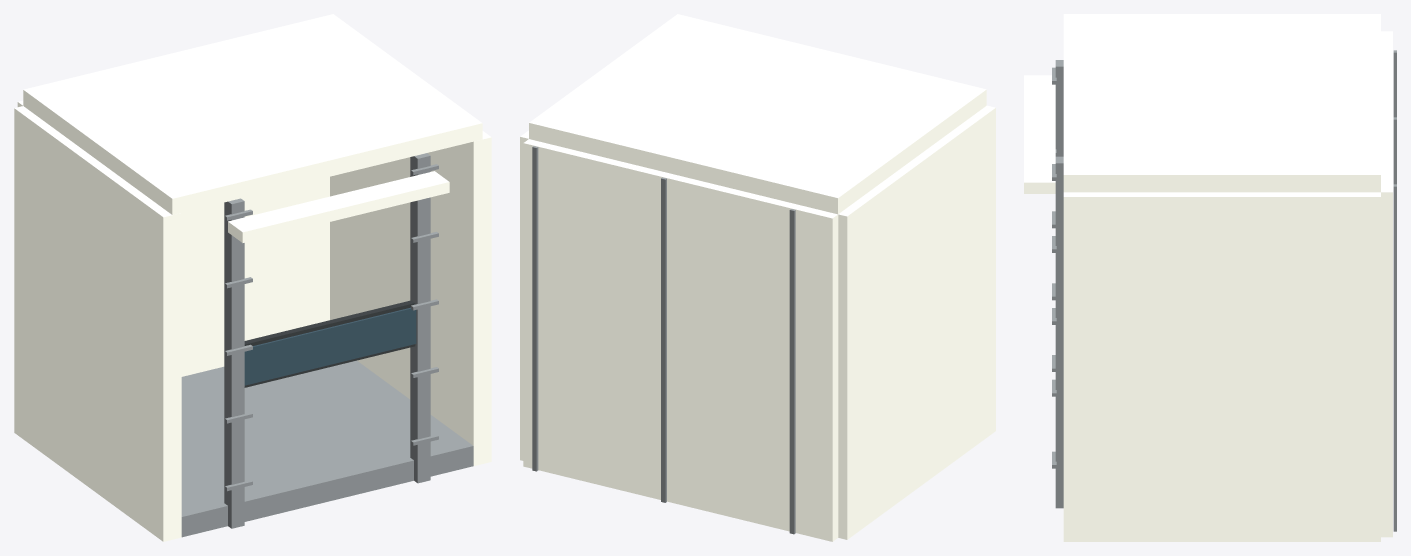
File: endurance-and-gt-paddock-lit-marshal-post-e517a35e__14883.glb
3 views of the same model, side by side, from view 1: azimuth 30°, elevation 25°; view 2: azimuth 150°, elevation 25°; view 3: azimuth 270°, elevation 25° (orthographic). The views are drawn at different scales.
Visible parts, largest first — view 1: lit-marshal-post; view 2: lit-marshal-post; view 3: lit-marshal-post.
Part boxes in pixels (x1=…): lit-marshal-post: x1=14, y1=14, x2=491, y2=541; lit-marshal-post: x1=520, y1=14, x2=995, y2=541; lit-marshal-post: x1=1024, y1=14, x2=1396, y2=541.
Bounding box in the file's own units: 2.54 × 2.52 × 2.35.
